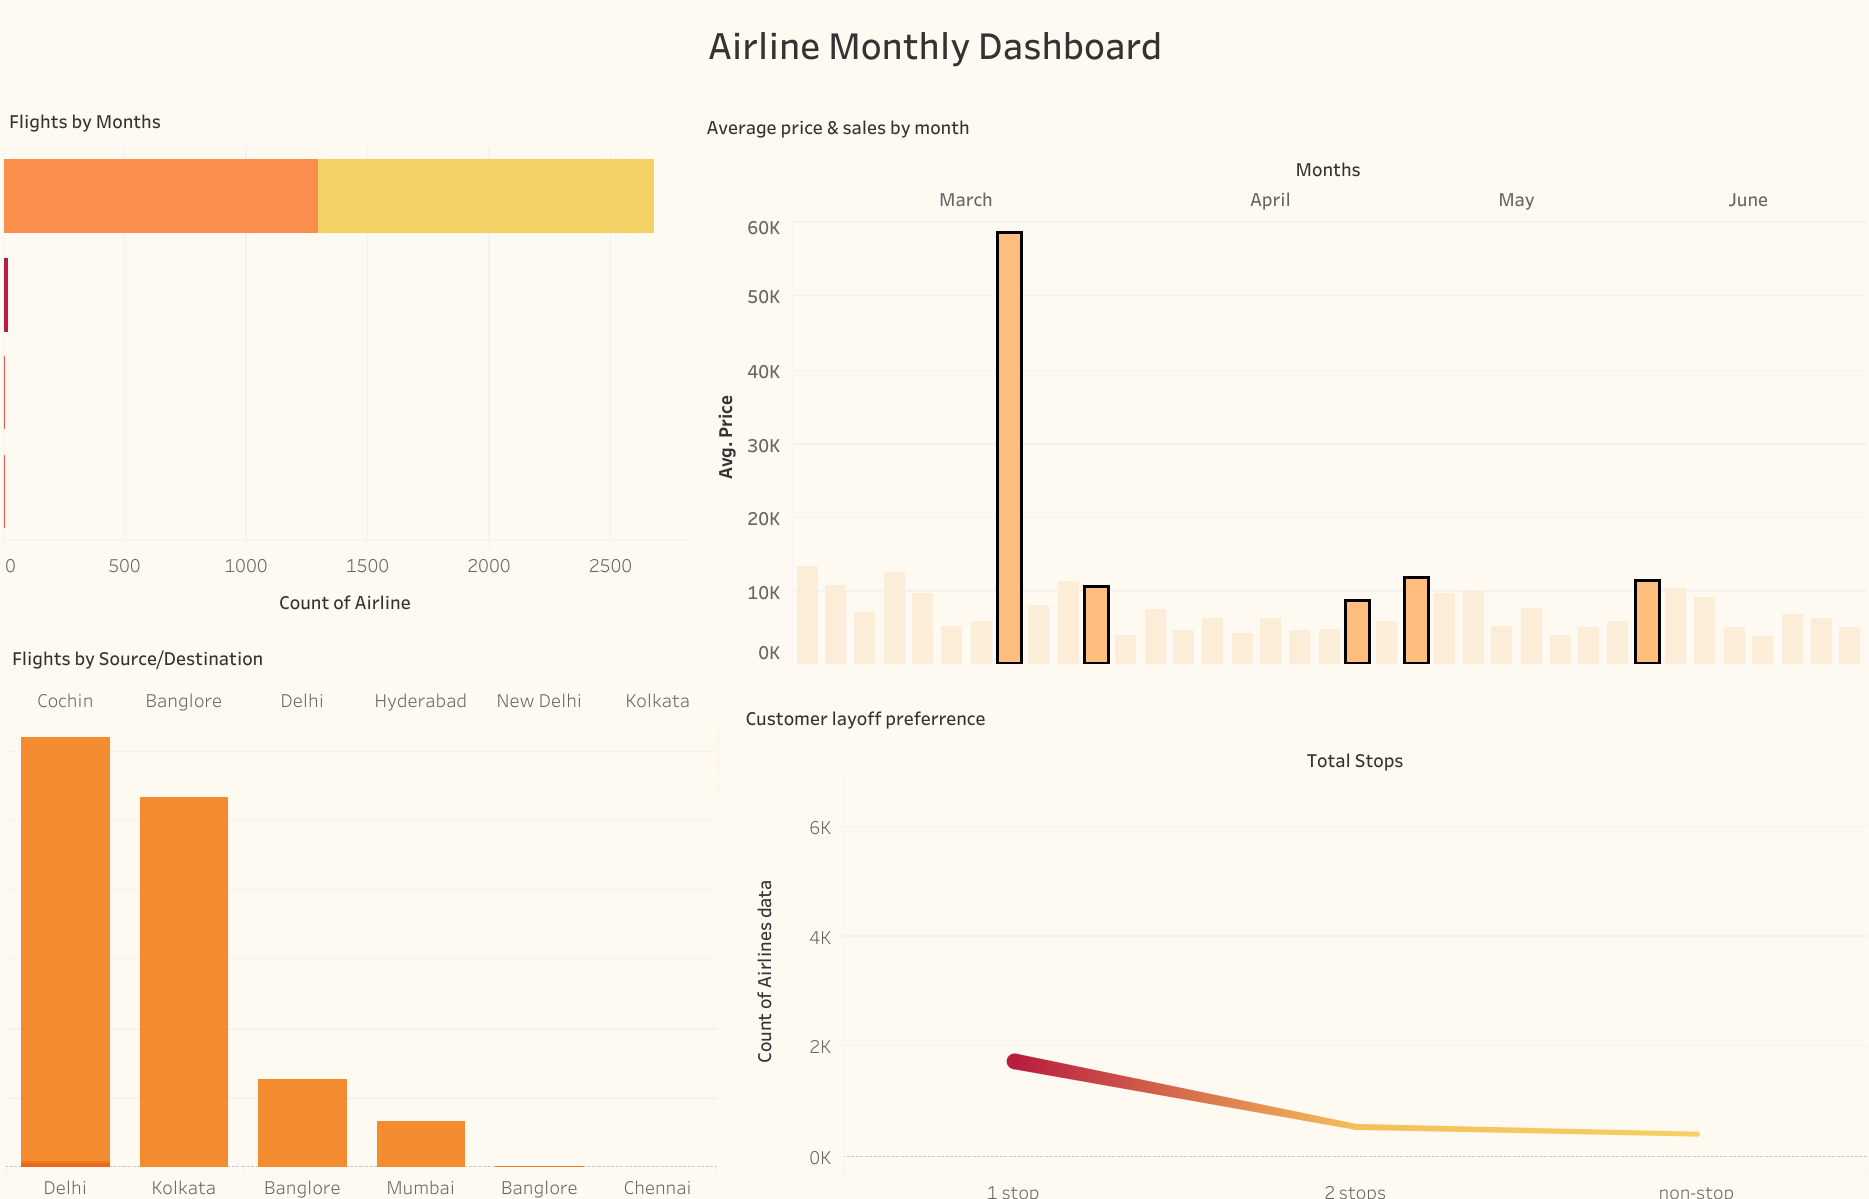

The dashboard page shown, as its layout file describes it:
{"tool":"tableau","page":{"name":"Dashboard 1","canvas":[1000,1000],"units":"permille","ordinal":0},"visuals":[{"type":"title","box":[5,10,990,72.5]},{"type":"worksheet","title":"Flight","mark":"Bar","rows":["Airline"],"cols":["Airline"],"box":[1.3,81.2,366.1,440]},{"type":"worksheet","title":"Price and Sales","mark":"Automatic","rows":["Price"],"cols":["Months","Airline"],"box":[374.4,86.2,622.5,467.5]},{"type":"worksheet","title":"Source/Destination","mark":"Bar","rows":["Airlines data_53580E3075E8410EB9B3917011179EF7"],"cols":["Destination","Source"],"box":[3.2,528.8,380,471.2]},{"type":"worksheet","title":"Layoff","mark":"Line","rows":["Airlines data_53580E3075E8410EB9B3917011179EF7"],"cols":["Total_Stops"],"box":[395.6,578.8,603.1,425]}]}

Visuals, with their boxes on the dashboard's canvas, which has no fixed pixel size, in thousandths of its width and height (x1, y1, x2, y2). These are canvas units, not pixel positions in the 1869x1199 screenshot, which may show the page scaled, cropped or inside an application window:
title: left=5, top=10, right=995, bottom=82
"Flight" worksheet (Bar marks): left=1, top=81, right=367, bottom=521
"Price and Sales" worksheet: left=374, top=86, right=997, bottom=554
"Source/Destination" worksheet (Bar marks): left=3, top=529, right=383, bottom=1000
"Layoff" worksheet (Line marks): left=396, top=579, right=999, bottom=1004
